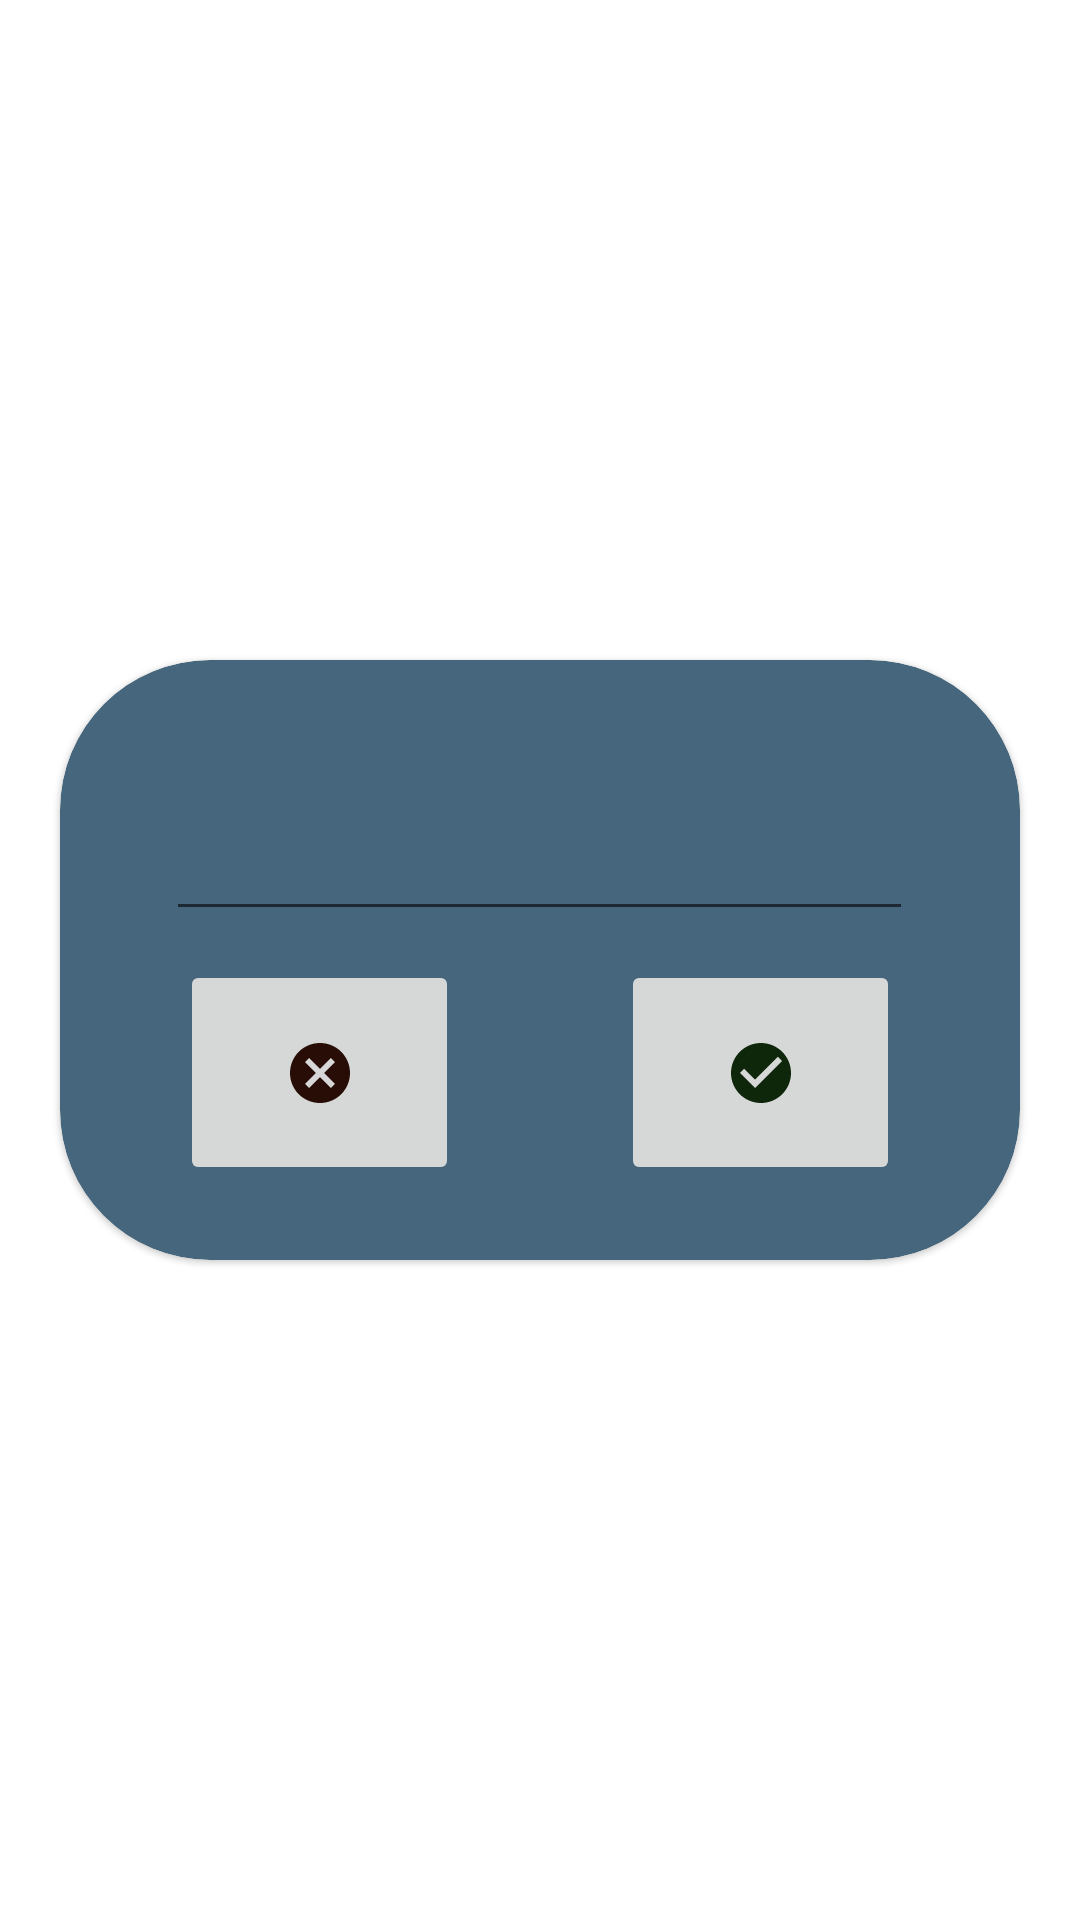

Where to tap for icons on this 1080×1920 app screen, as [x,y]:
yes: [760,1072]
